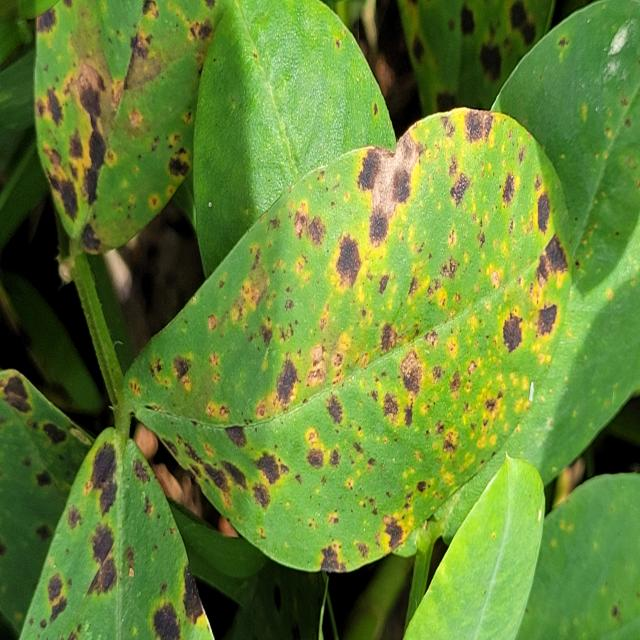Ground nut_tikka leaf spot: (129, 110, 573, 568), (34, 0, 216, 254), (21, 439, 215, 640)
